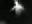person: (11, 1, 25, 17)
